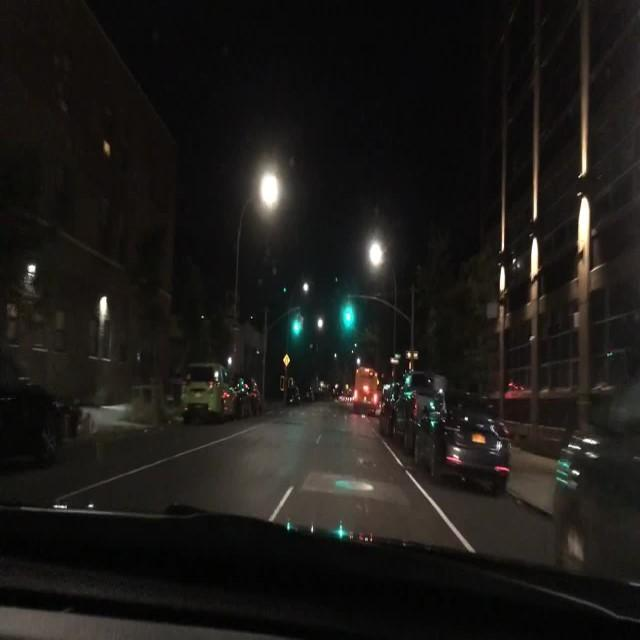normal: (353, 359, 528, 505)
